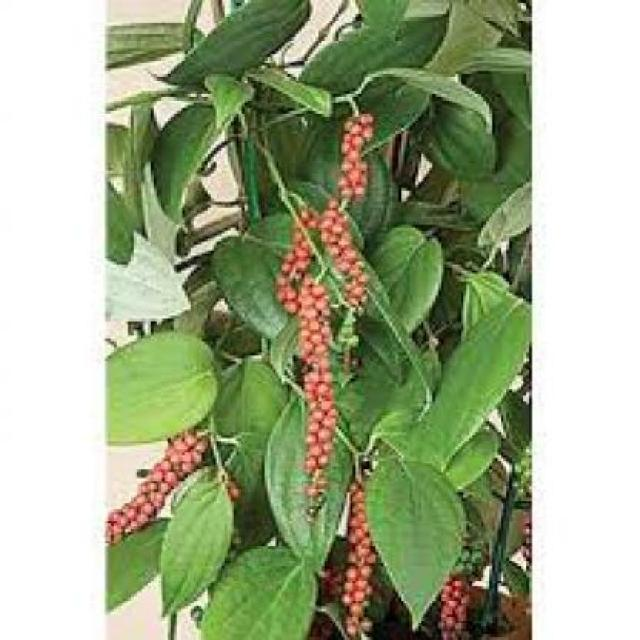RIPE: (279, 271, 336, 509), (103, 410, 208, 533), (336, 479, 382, 633), (322, 205, 376, 296), (330, 91, 379, 191), (432, 563, 466, 637)
